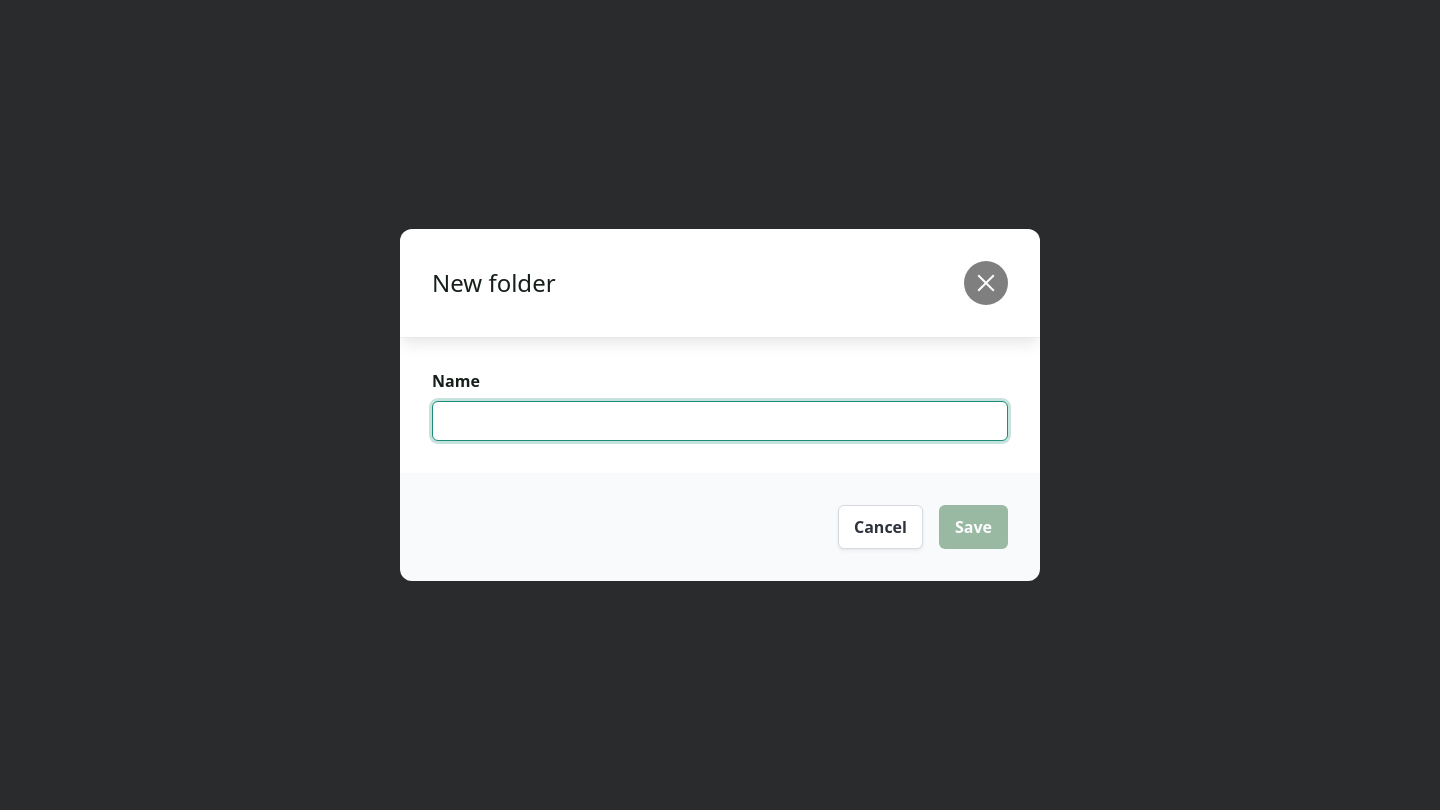
Test: NameDialog › enables Save once the name has content
Type "Spanish" into the field with test id "name-input" at (720, 421), box [432,401,1008,441]
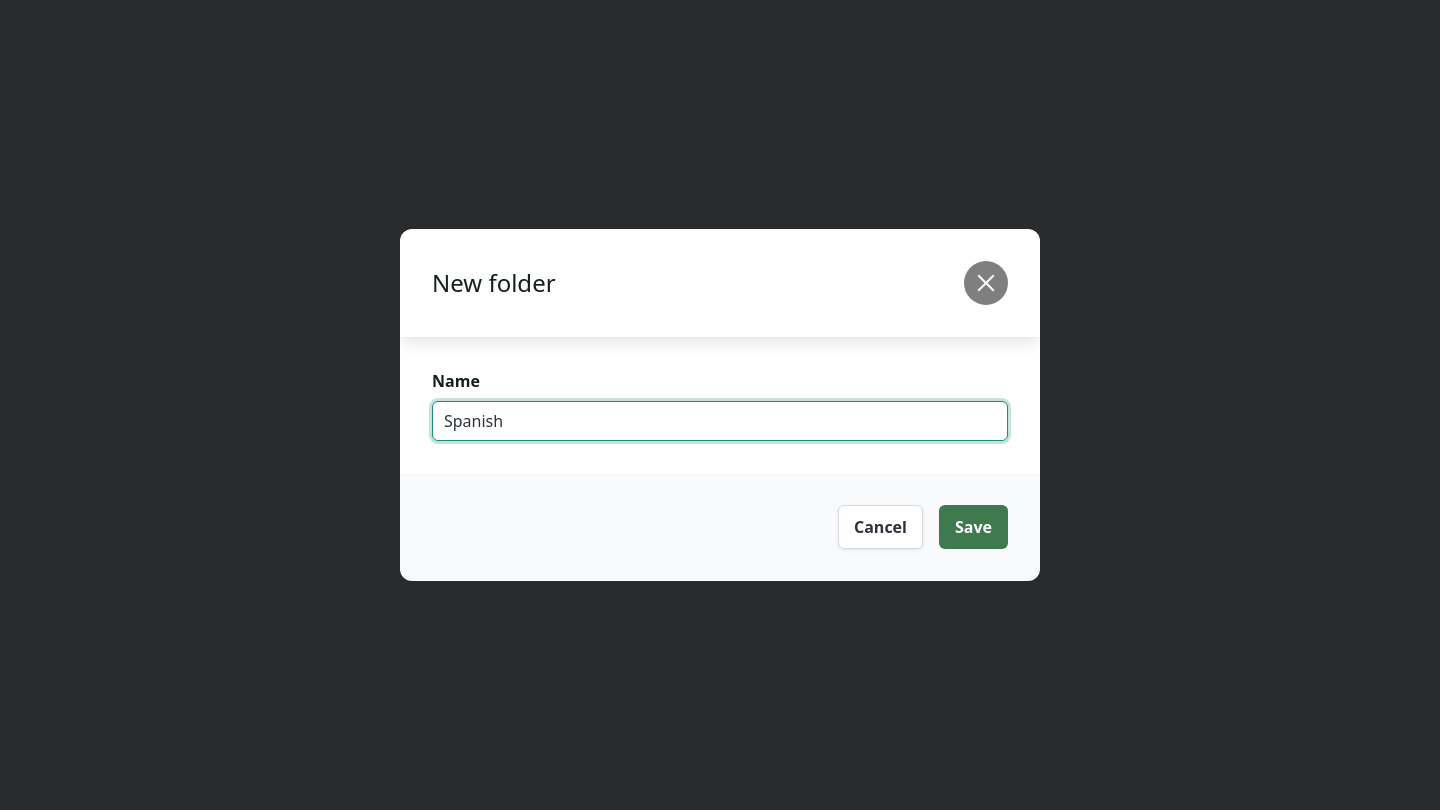
Check: the button with test id "name-save" is enabled, box [939,505,1008,549]
